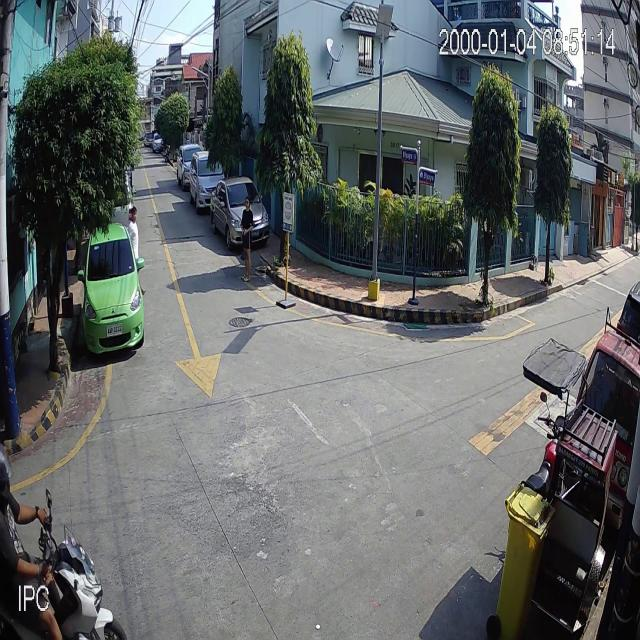standing: (240, 195, 256, 282)
walking: (126, 204, 147, 296)
